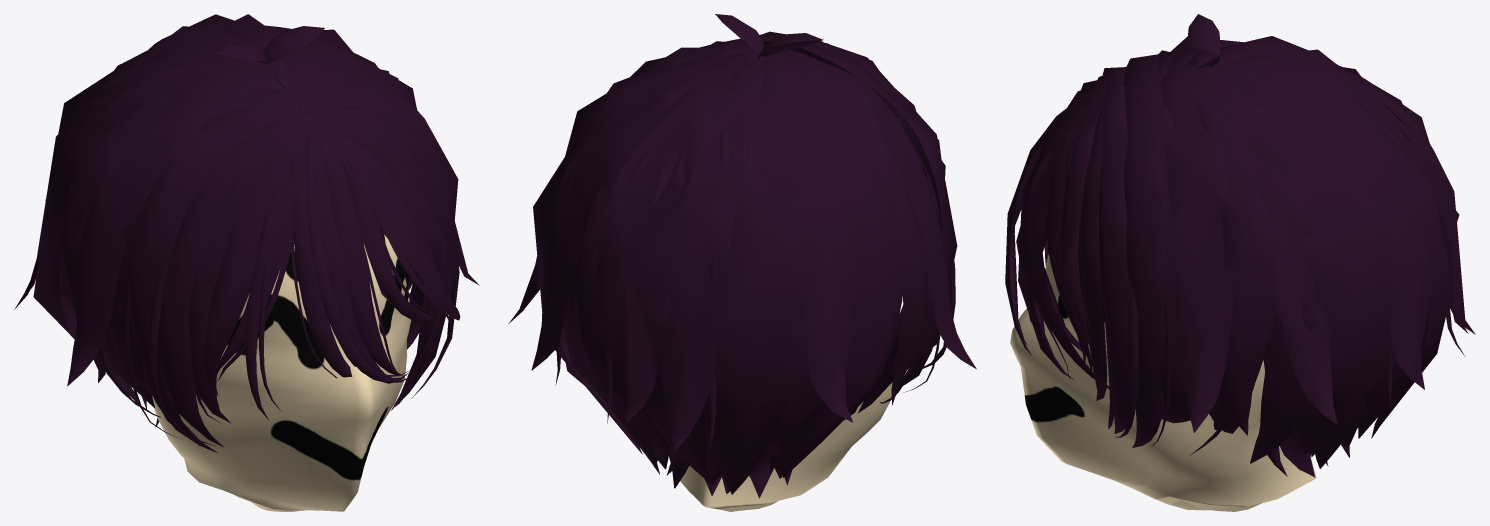
File: 02_head.obj
3 renders of one model, left to right at view 1: azimuth 30°, elevation 25°; view 2: azimuth 150°, elevation 25°; view 3: azimuth 270°, elevation 25°, orthographic.
Parts seen in each view (by area): view 1: Hair, head; view 2: Hair, head; view 3: Hair, head.
Part boxes in pixels (<box>): Hair: <box>14,14,479,452</box>; head: <box>152,229,412,511</box>; Hair: <box>508,14,976,498</box>; head: <box>680,382,892,511</box>; Hair: <box>1005,14,1475,477</box>; head: <box>1010,254,1316,511</box>.
Bounding box in the file's own units: 2.52 × 2.75 × 2.5.
2 materials, 1 textured.
